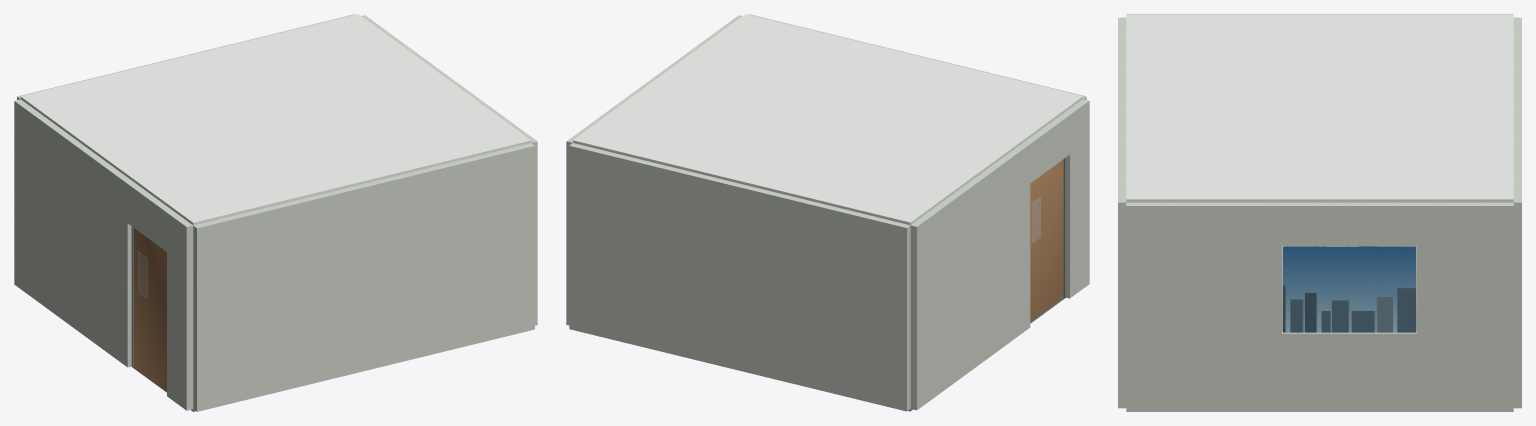
3 renders of one model, left to right at view 1: azimuth 30°, elevation 25°; view 2: azimuth 150°, elevation 25°; view 3: azimuth 270°, elevation 25°, orthographic. The views are drawn at different scales.
Visible parts, largest first — view 1: Wall_Front, Ceiling, Wall_Left, Door, Wall_Right, Wall_Back; view 2: Wall_Back, Ceiling, Wall_Left, Door, Wall_Right, Wall_Front; view 3: Ceiling, Wall_Right, Window_View, Wall_Back, Wall_Front, Wall_Left.
Part boxes in pixels (x1,y1,x2,y2): Wall_Front: (193, 143, 534, 411); Ceiling: (20, 14, 531, 225); Wall_Left: (14, 99, 193, 410); Door: (133, 228, 166, 390); Wall_Right: (362, 15, 537, 325); Wall_Back: (17, 14, 355, 99); Wall_Back: (569, 143, 910, 411); Ceiling: (573, 14, 1082, 225); Wall_Left: (910, 99, 1089, 410); Door: (1030, 159, 1063, 321); Wall_Right: (566, 15, 741, 325); Wall_Front: (748, 14, 1086, 99); Ceiling: (1126, 14, 1513, 202); Wall_Right: (1126, 202, 1513, 411); Window_View: (1283, 246, 1415, 332); Wall_Back: (1513, 17, 1521, 408); Wall_Front: (1118, 17, 1126, 408); Wall_Left: (1126, 14, 1513, 14).
Size of the model in its own units: 5.4 by 2.78 by 4.8.
133 materials, 15 textured.
